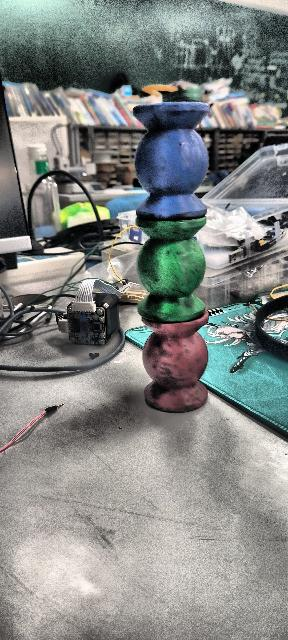blue: (132, 100, 210, 220)
green: (132, 218, 209, 321)
red: (136, 312, 211, 414)
